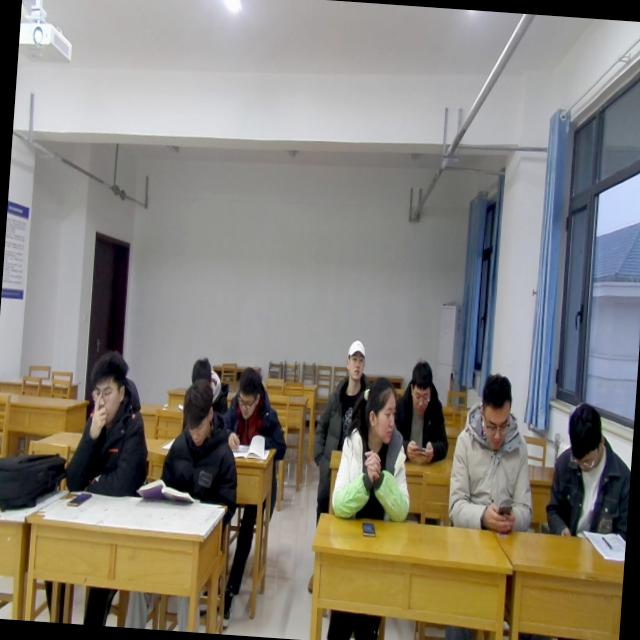down: (86, 346, 132, 429), (562, 396, 608, 475), (474, 368, 515, 454), (177, 377, 216, 446), (404, 354, 436, 420), (232, 362, 266, 421), (184, 352, 213, 392)
lookup: (340, 332, 368, 386)
sit: (446, 366, 546, 537), (60, 353, 154, 501), (330, 377, 418, 530), (547, 392, 635, 536), (156, 377, 244, 506), (220, 365, 292, 465), (392, 358, 450, 464), (322, 338, 372, 450), (177, 349, 235, 416)
